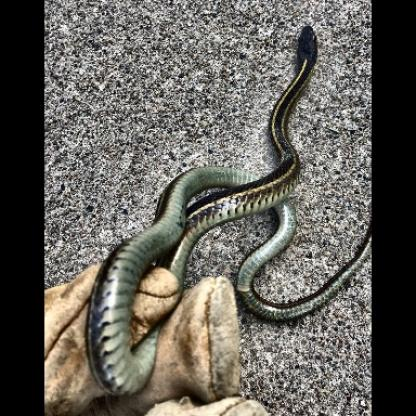Snake: (89, 20, 368, 386)
